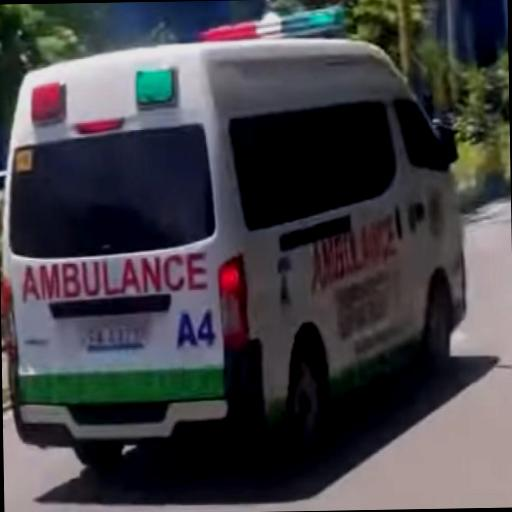Police car: (0, 0, 469, 470)
